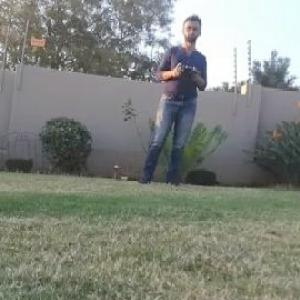follow: (131, 4, 210, 190)
